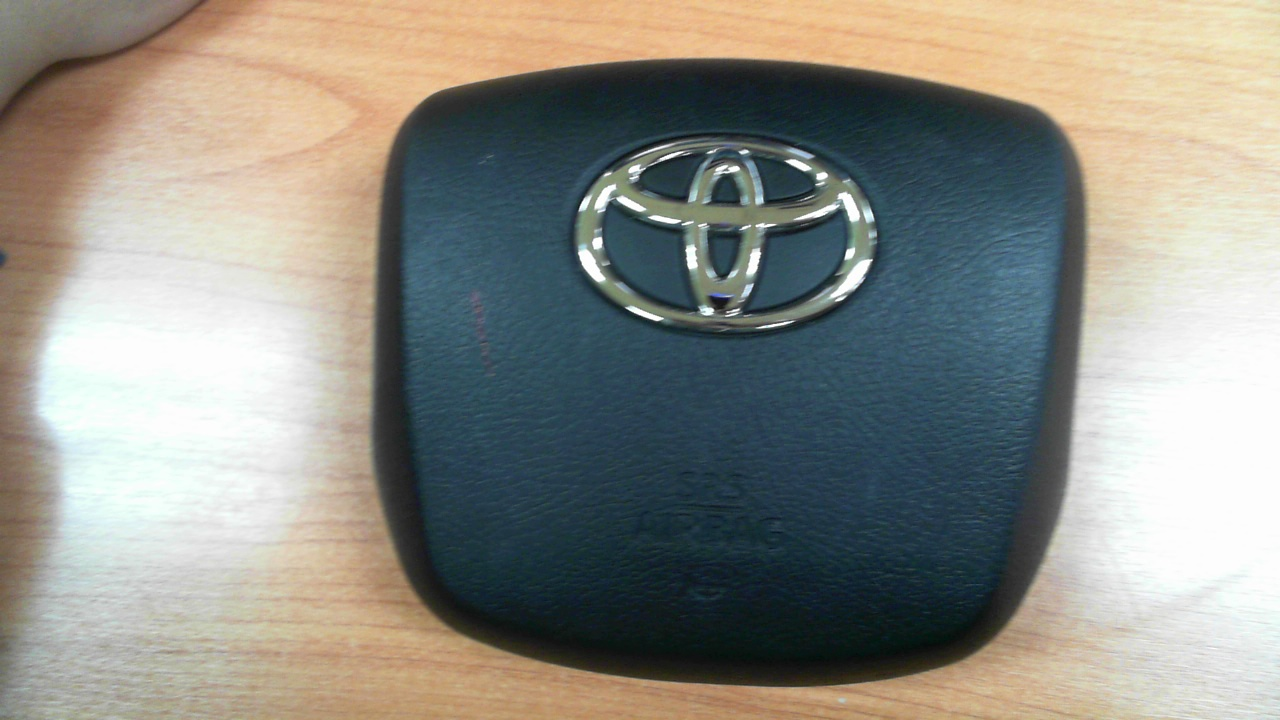Airbag: (370, 58, 1088, 690)
Toyota: (573, 136, 878, 333)
